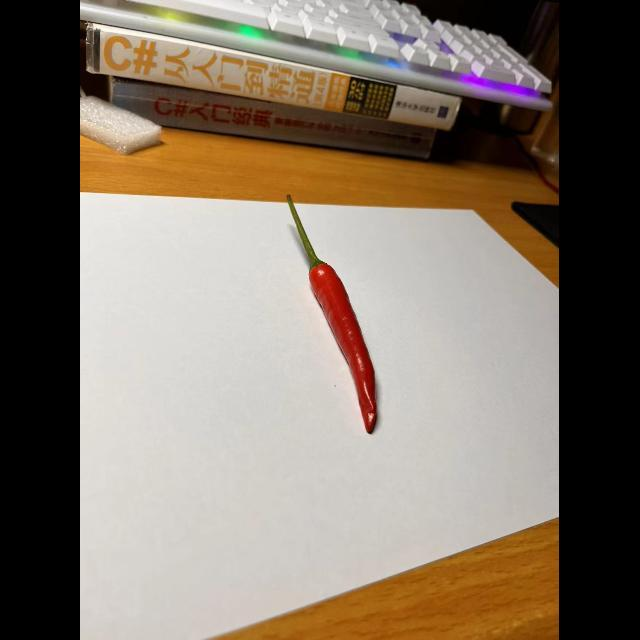chili_pepper: (280, 206, 384, 440)
